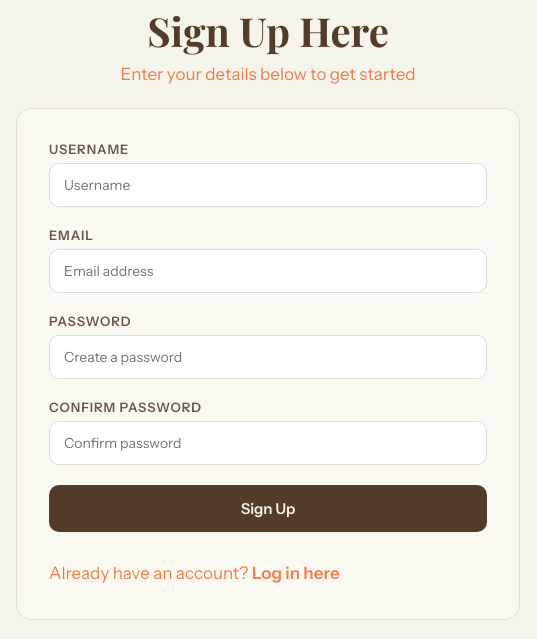
Test: Signup Page › shows an error message when the user is unsuccessful in loging in
The width and height of the screenshot is (537, 639).
Type "tester" into the field with placeholder "Username" at [268, 185], box [49,163,487,207]
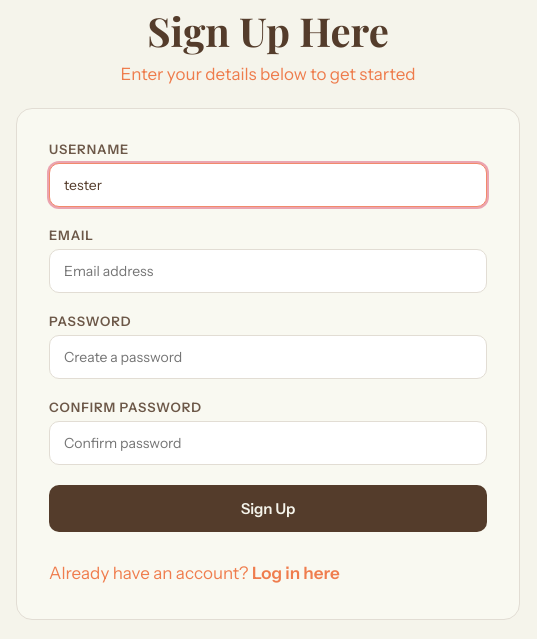
Type "test@email.com" into the field with placeholder "Email address" at [268, 271], box [49,249,487,293]
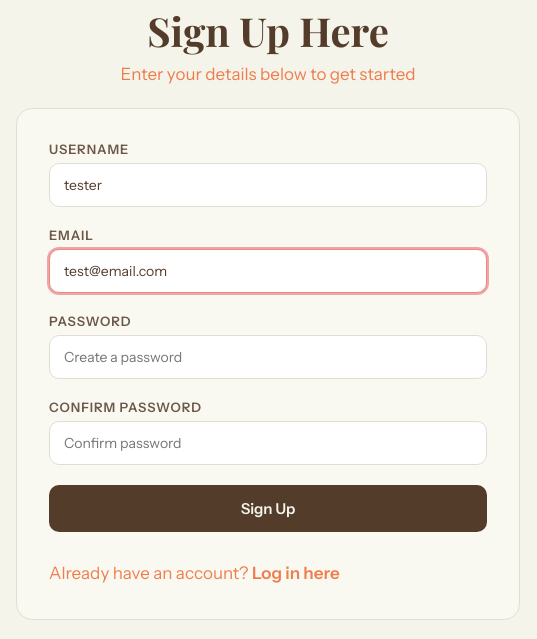
Type "password1234" into the password field with placeholder "Create a password" at [268, 357], box [49,335,487,379]
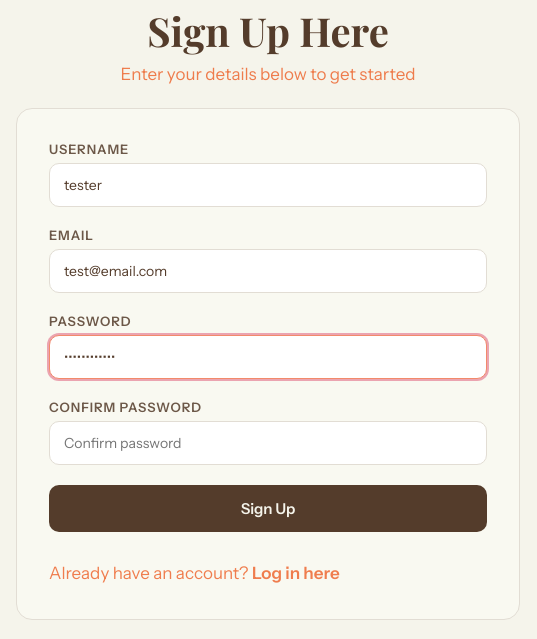
Type "password1234" into the password field with placeholder "Confirm password" at [268, 443], box [49,421,487,465]
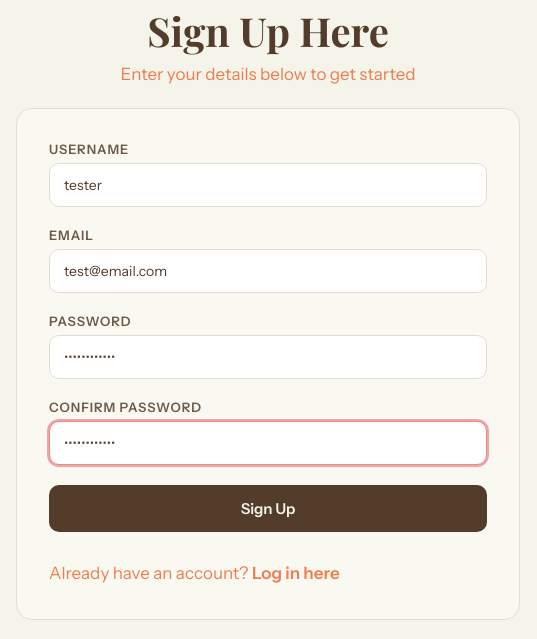
Click the button "Sign Up" at [268, 509], box [49,485,487,532]
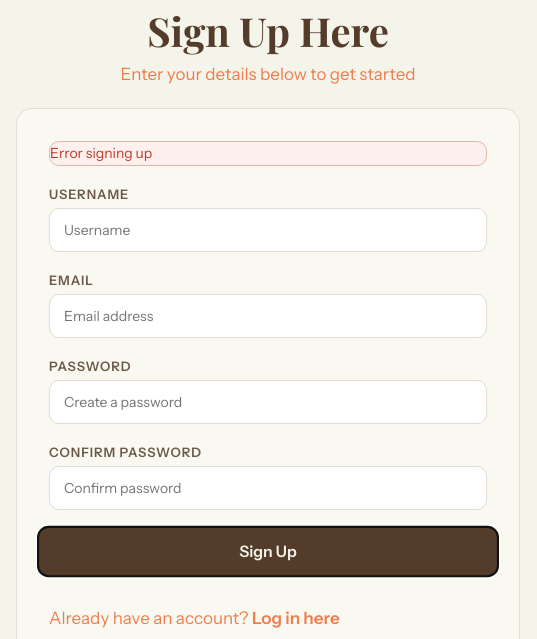
Expected: the text "Error signing up" is shown, [49,141,487,166]
